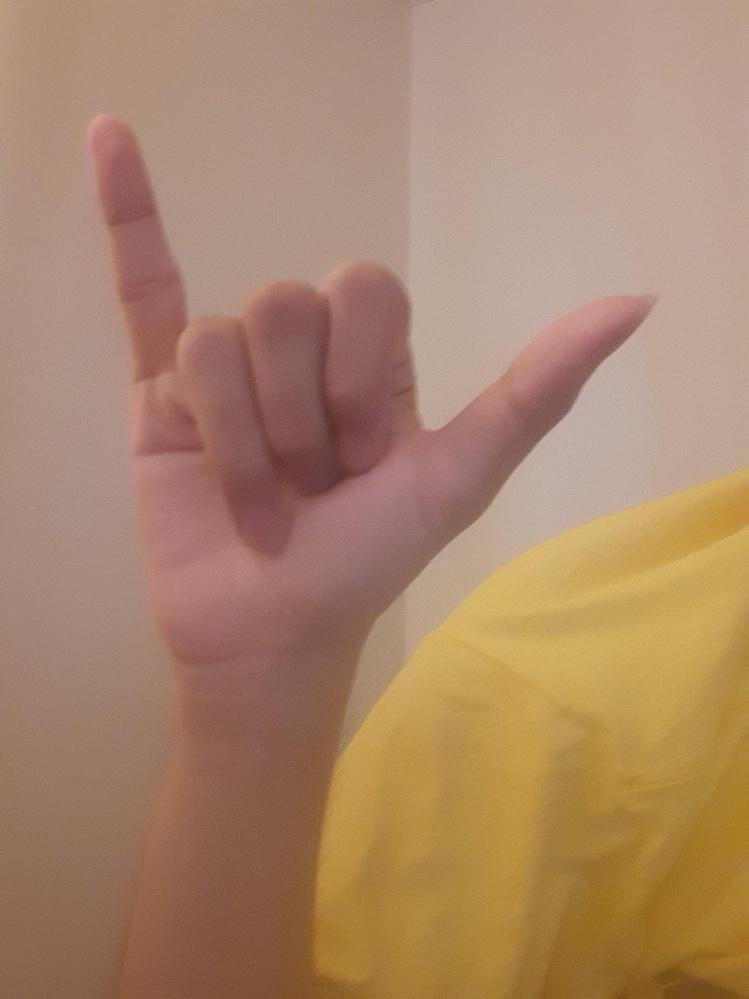y: (86, 113, 656, 642)
